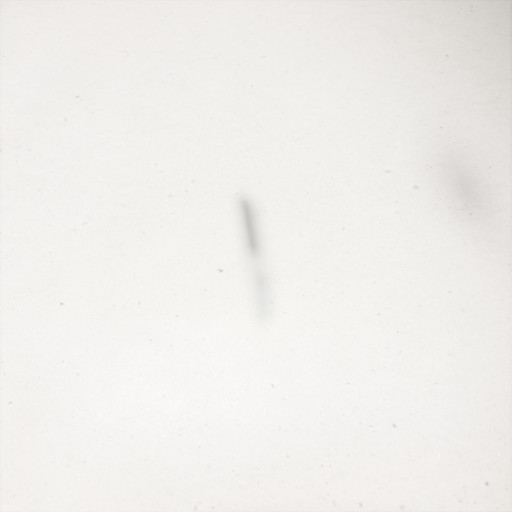lego: (236, 193, 276, 327)
